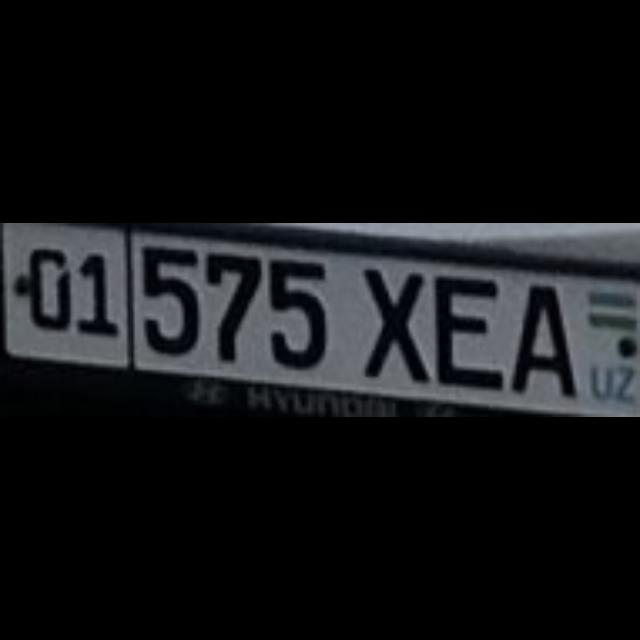0: (21, 243, 68, 323)
1: (70, 246, 114, 334)
5: (262, 253, 322, 367), (138, 240, 195, 354)
7: (202, 246, 258, 360)
A: (506, 276, 572, 394)
E: (429, 270, 499, 388)
X: (358, 264, 426, 381)
